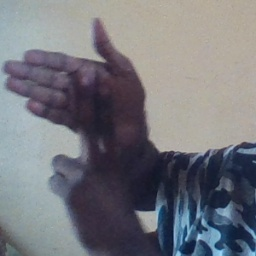N: (3, 14, 155, 186)
